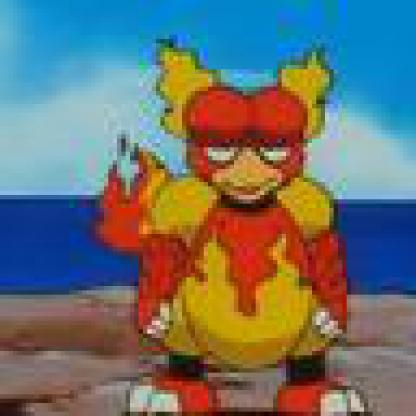Magmar: (1, 1, 413, 413)
